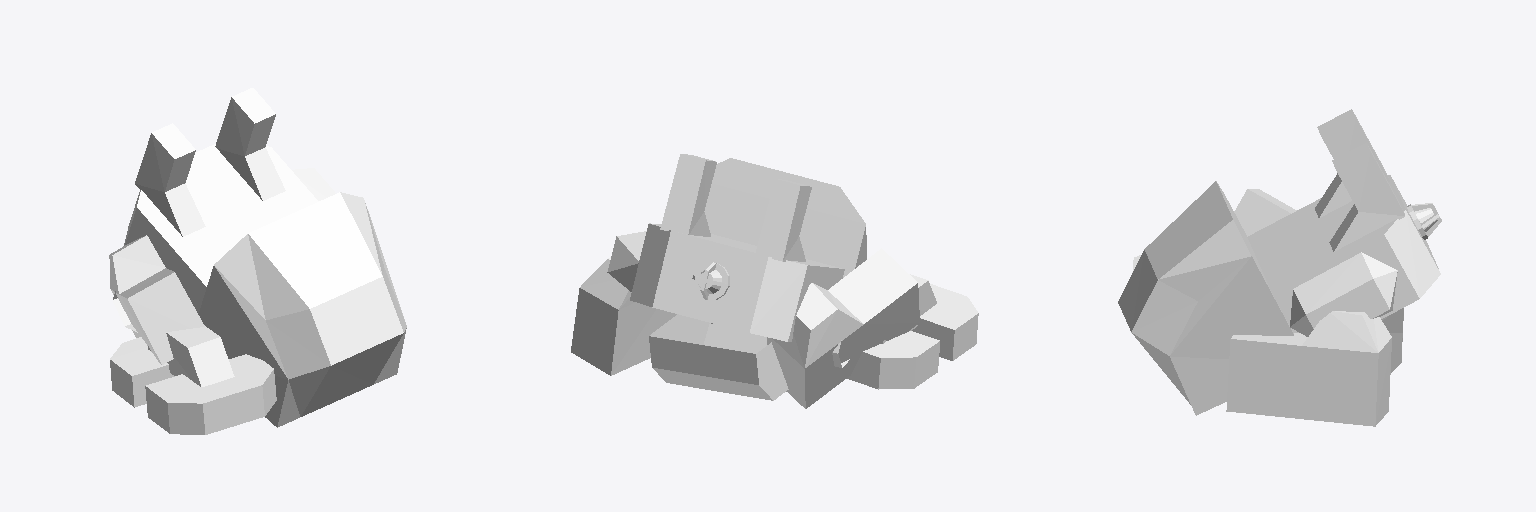
File: corck_anim_death.obj
The picture shows the model from 3 angles: view 1: azimuth 30°, elevation 25°; view 2: azimuth 150°, elevation 25°; view 3: azimuth 270°, elevation 25°; orthographic projection.
Parts seen in each view (by area): view 1: torso, rfoot, rleg; view 2: torso, rleg, pelvis, rfoot, lleg, cagelight; view 3: torso, lleg, rleg, cagelight, pelvis.
Boxes of the visible parts, x1,y1,x2,y2 form: torso: [113, 88, 406, 427]; rfoot: [110, 326, 276, 434]; rleg: [109, 235, 204, 364]; torso: [607, 154, 866, 367]; rleg: [767, 248, 919, 408]; pelvis: [649, 314, 788, 400]; rfoot: [847, 274, 978, 389]; lleg: [571, 257, 676, 375]; cagelight: [692, 262, 729, 299]; torso: [1118, 109, 1440, 415]; lleg: [1226, 311, 1391, 426]; rleg: [1234, 189, 1296, 236]; cagelight: [1407, 203, 1441, 239]; pelvis: [1381, 308, 1403, 372].
Bounding box in the file's own units: 26.73 × 21.38 × 25.1.